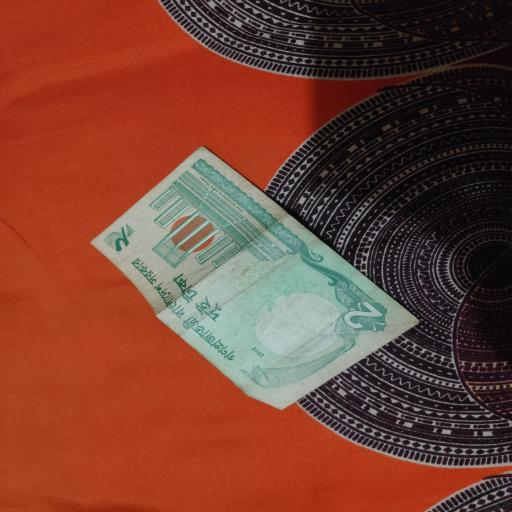2taka: (83, 144, 418, 420)
